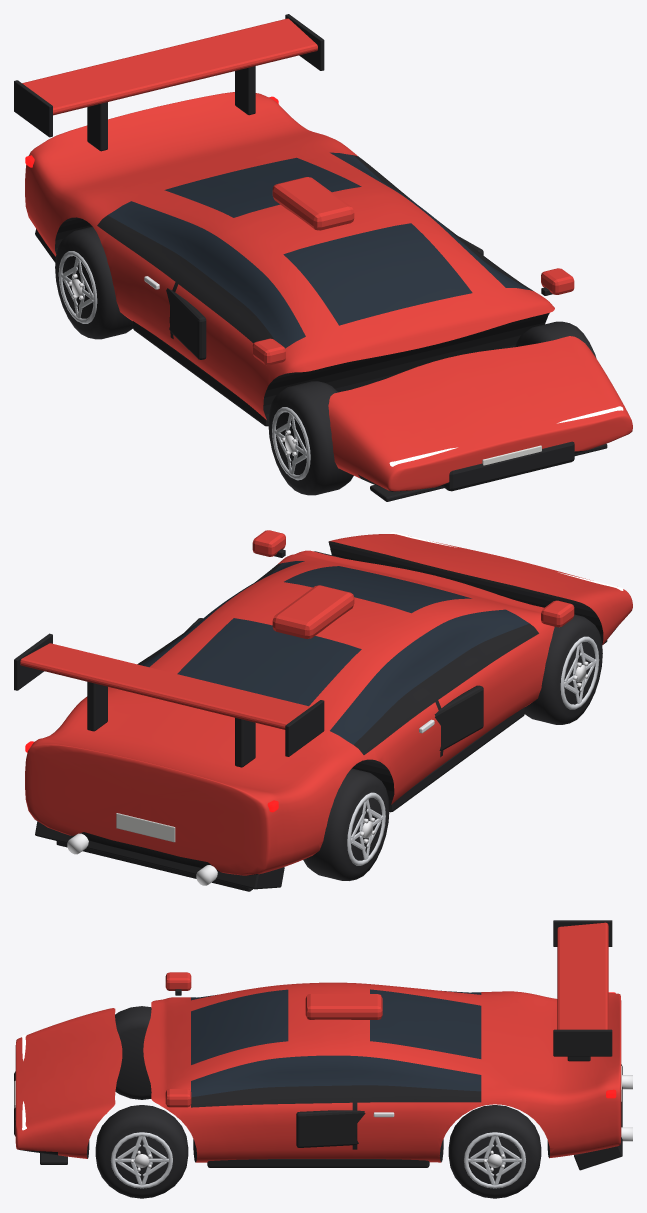
File: phantom_mid.glb
3 renders of one model, top to bottom at view 1: azimuth 30°, elevation 25°; view 2: azimuth 150°, elevation 25°; view 3: azimuth 270°, elevation 25°, orthographic. The views are drawn at different scales.
Visible parts, largest first — view 1: body, wheel_fr, wheel_rr, wheel_fl; view 2: body, wheel_rr, wheel_fr; view 3: body, wheel_fl, wheel_rl, wheel_fr.
Boxes of the visible parts, <box> form: body: <box>14,14,632,501</box>; wheel_fr: <box>268,381,353,495</box>; wheel_rr: <box>55,226,132,339</box>; wheel_fl: <box>515,321,596,358</box>; body: <box>14,530,632,891</box>; wheel_rr: <box>303,768,389,880</box>; wheel_fr: <box>525,614,602,724</box>; body: <box>14,920,632,1170</box>; wheel_fl: <box>95,1105,188,1198</box>; wheel_rl: <box>448,1105,541,1198</box>; wheel_fr: <box>115,1006,151,1099</box>.
Bounding box in the file's own units: 2.31 × 1.45 × 4.82.
